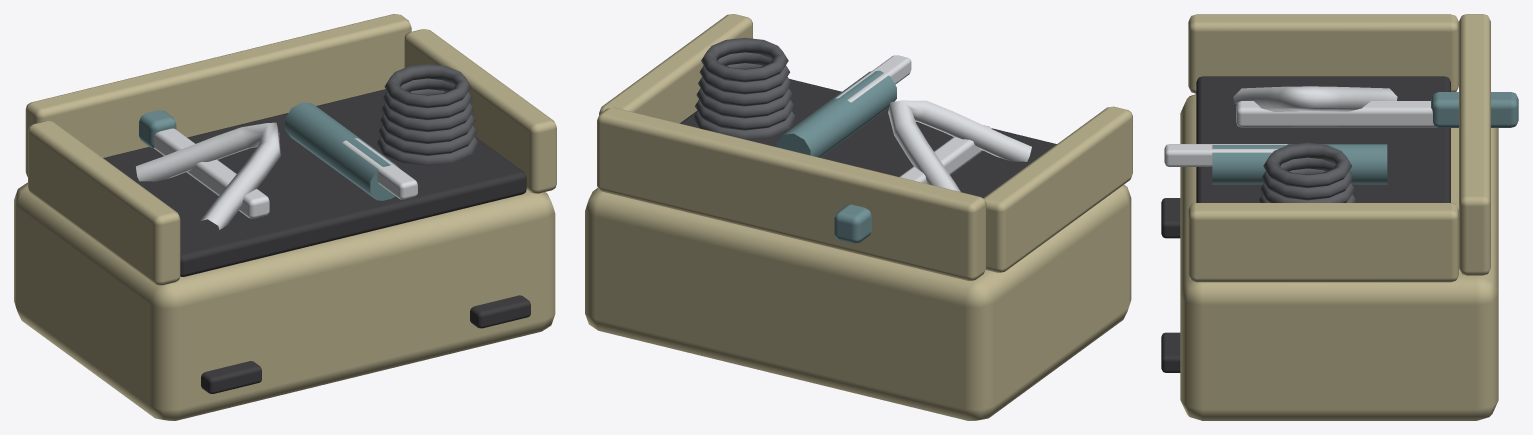
Rendered from tactical-shooter-hill-town-defuse-kit-bcaf54e3__27561.glb.
The picture shows the model from 3 angles, left to right: view 1: azimuth 30°, elevation 25°; view 2: azimuth 150°, elevation 25°; view 3: azimuth 270°, elevation 25°; orthographic projection. The views are drawn at different scales.
Visible parts, largest first — view 1: defuse-kit; view 2: defuse-kit; view 3: defuse-kit.
Part boxes in pixels (<box>): defuse-kit: <box>14,14,556,420</box>; defuse-kit: <box>585,14,1132,420</box>; defuse-kit: <box>1161,14,1518,420</box>.
Size of the model in its own units: 0.3 by 0.1618 by 0.2245.
